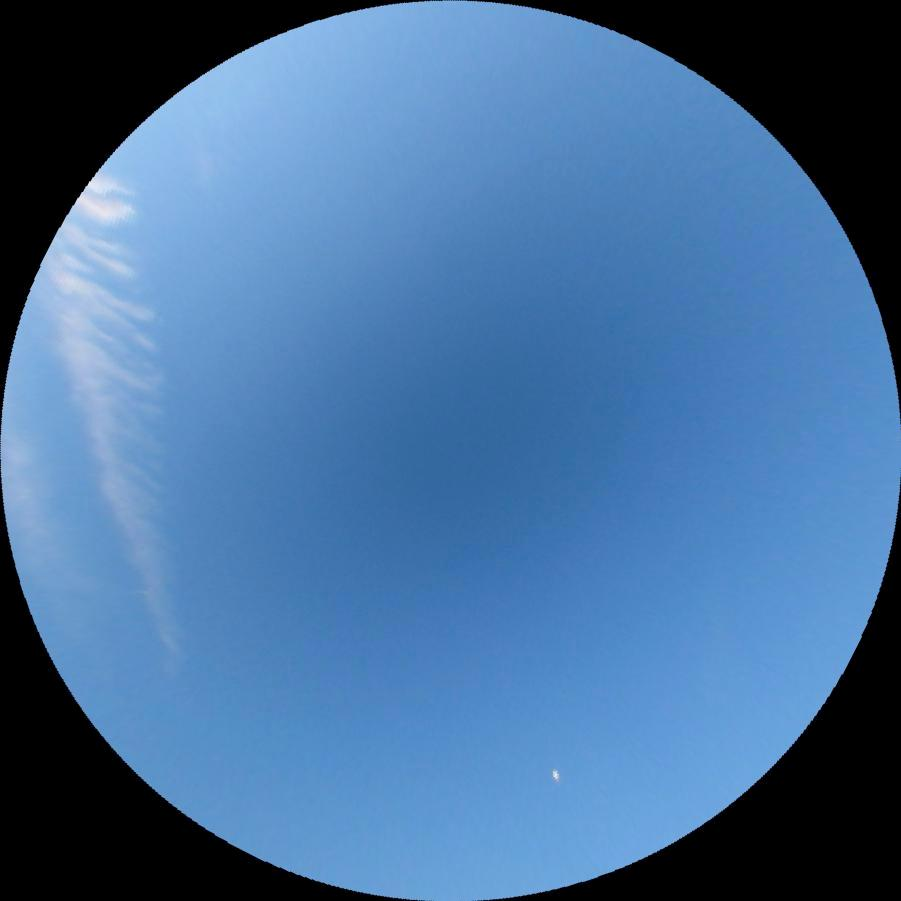contrail young: (127, 588, 150, 596)
